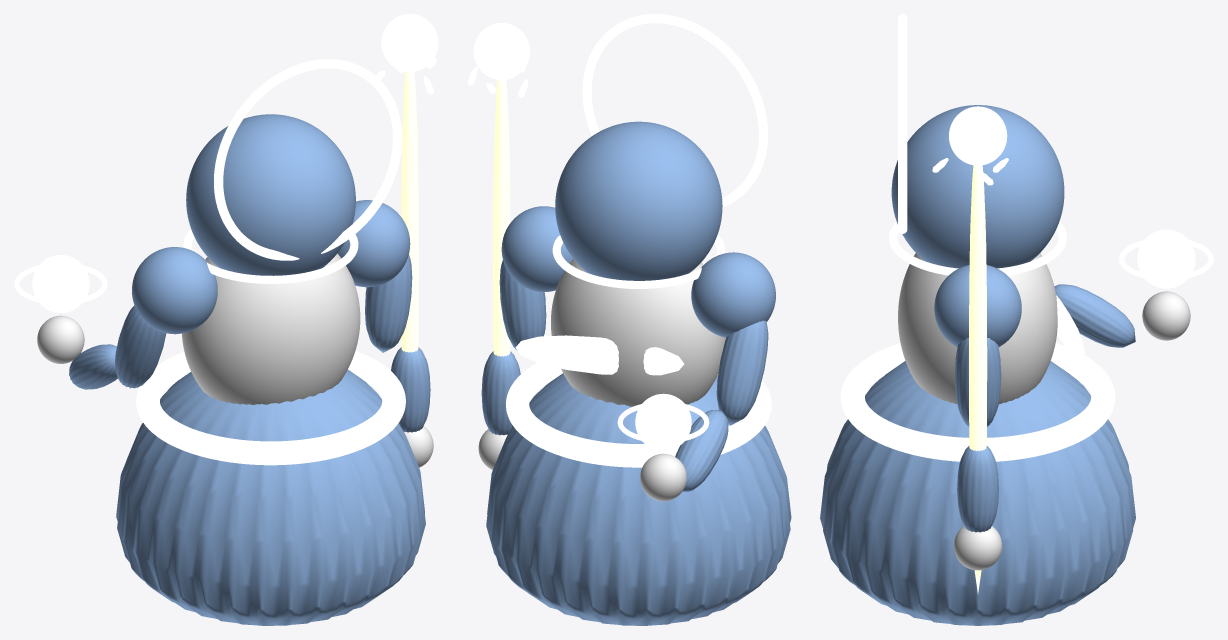
File: companion_healer_r2_v3.glb
3 renders of one model, left to right at view 1: azimuth 30°, elevation 25°; view 2: azimuth 150°, elevation 25°; view 3: azimuth 270°, elevation 25°, orthographic. The views are drawn at different scales.
Visible parts, largest first — view 1: robe, hood, body.002, belt.001, sh_l.001, halo, sh_r.001, staff, arm_ru.002, arm_lu.002, staff_gem, heal_orb (+6 smaller); view 2: robe, hood, body.002, belt.001, sh_l.001, sh_r.001, halo, sash, arm_lu.002, staff, staff_gem, arm_ru.002 (+7 smaller); view 3: robe, hood, body.002, belt.001, staff, sh_r.001, arm_rl.002, arm_ll.002, staff_gem, heal_orb, halo, arm_ru.002 (+5 smaller).
Part boxes in pixels (x1=…): robe: x1=116, y1=369, x2=425, y2=625; hood: x1=186, y1=114, x2=355, y2=275; body.002: x1=182, y1=253, x2=360, y2=404; belt.001: x1=136, y1=351, x2=405, y2=465; sh_l.001: x1=132, y1=247, x2=217, y2=334; halo: x1=214, y1=59, x2=402, y2=260; sh_r.001: x1=337, y1=200, x2=410, y2=287; staff: x1=401, y1=71, x2=418, y2=352; arm_ru.002: x1=365, y1=255, x2=412, y2=352; arm_lu.002: x1=115, y1=305, x2=166, y2=388; staff_gem: x1=381, y1=14, x2=438, y2=71; heal_orb: x1=32, y1=255, x2=89, y2=312; robe: x1=486, y1=373, x2=791, y2=625; hood: x1=555, y1=121, x2=722, y2=280; body.002: x1=551, y1=259, x2=725, y2=406; belt.001: x1=506, y1=363, x2=771, y2=467; sh_l.001: x1=691, y1=252, x2=775, y2=337; sh_r.001: x1=501, y1=206, x2=573, y2=292; halo: x1=582, y1=14, x2=768, y2=207; sash: x1=515, y1=335, x2=684, y2=375; arm_lu.002: x1=716, y1=320, x2=768, y2=425; staff: x1=493, y1=80, x2=510, y2=356; staff_gem: x1=473, y1=23, x2=529, y2=80; arm_ru.002: x1=499, y1=260, x2=546, y2=350; robe: x1=820, y1=361, x2=1135, y2=625; hood: x1=891, y1=105, x2=1064, y2=268; body.002: x1=898, y1=253, x2=1057, y2=404; belt.001: x1=840, y1=343, x2=1115, y2=461; staff: x1=969, y1=165, x2=987, y2=593; sh_r.001: x1=934, y1=265, x2=1021, y2=346; arm_rl.002: x1=957, y1=446, x2=998, y2=532; arm_ll.002: x1=1054, y1=284, x2=1135, y2=347; staff_gem: x1=949, y1=106, x2=1007, y2=165; heal_orb: x1=1137, y1=229, x2=1195, y2=288; halo: x1=898, y1=14, x2=907, y2=233; arm_ru.002: x1=954, y1=338, x2=1001, y2=426.
Bounding box in the file's own units: 1.52 × 2.56 × 1.57.
